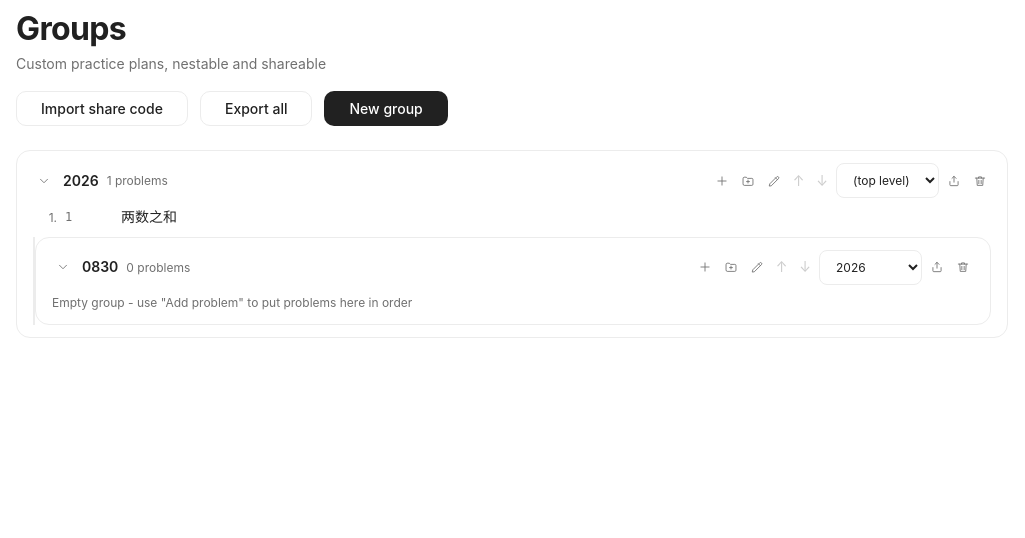
Test: Groups view › exports all groups; a clipboard failure surfaces the code in a box
This screenshot has width=1025, height=538.
What coordinates should you click on to do the following:
click the button with test id "groups-export-btn"
I would click on:
 (256, 109)
Its box is left=200, top=91, right=312, bottom=126.
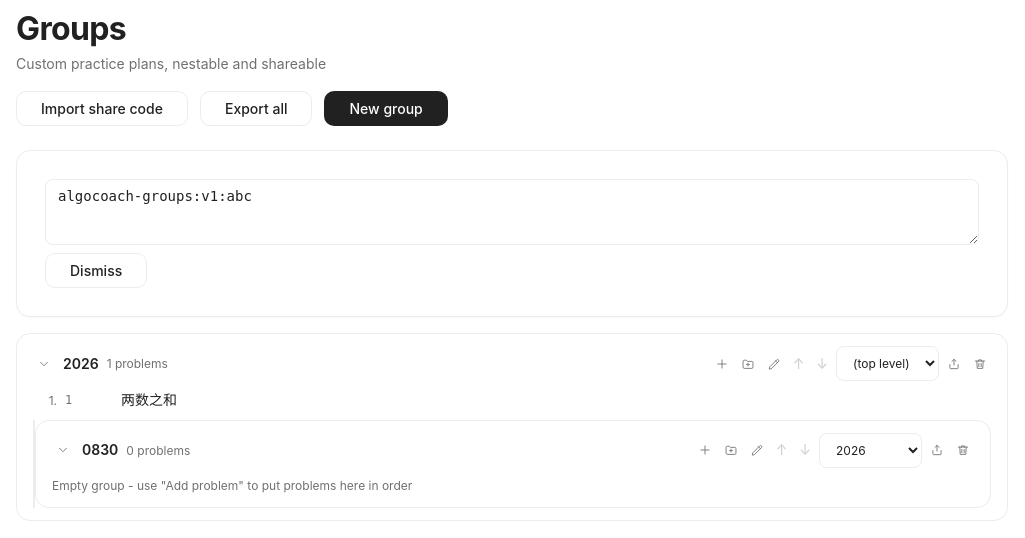
Expected: the element with test id "groups-export-box" is shown, left=16, top=150, right=1008, bottom=317
